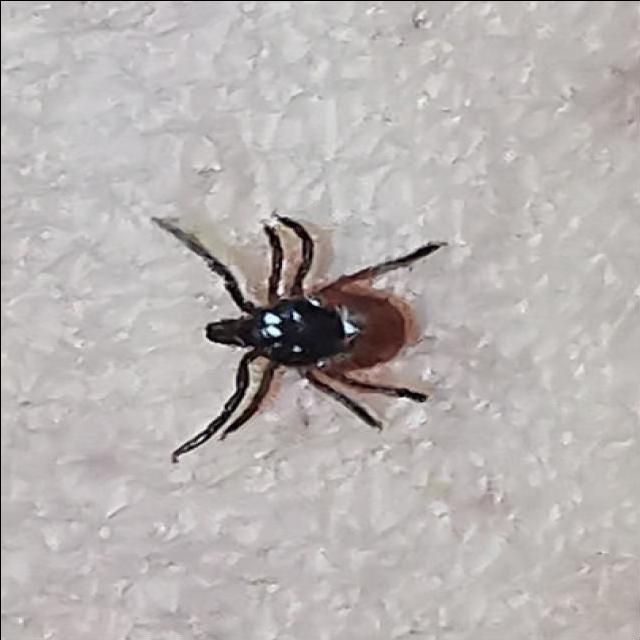Ixodes Ricinus-F: (150, 215, 444, 462)
